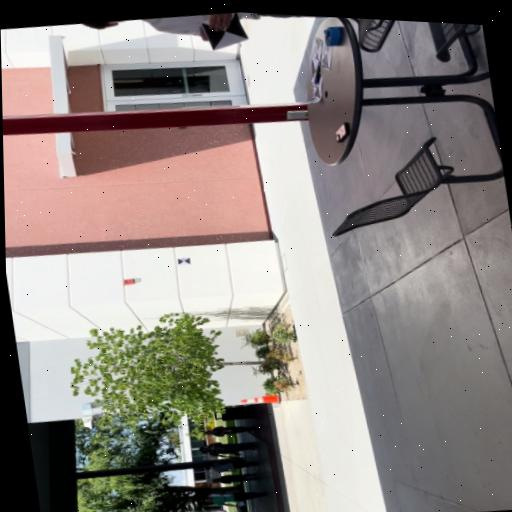target6: (178, 258, 190, 265)
